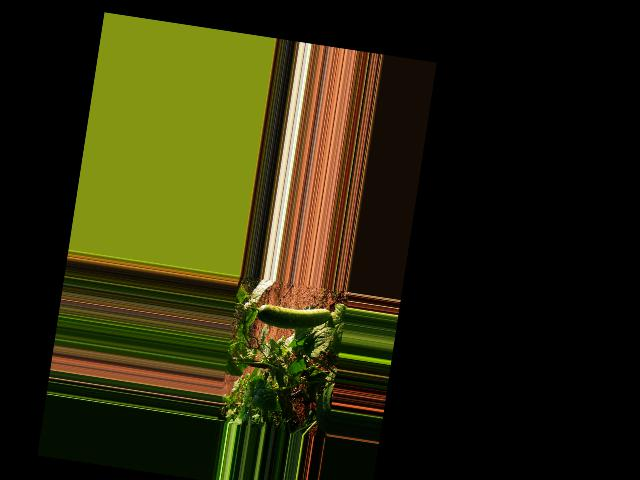cucumber: (256, 298, 331, 334)
